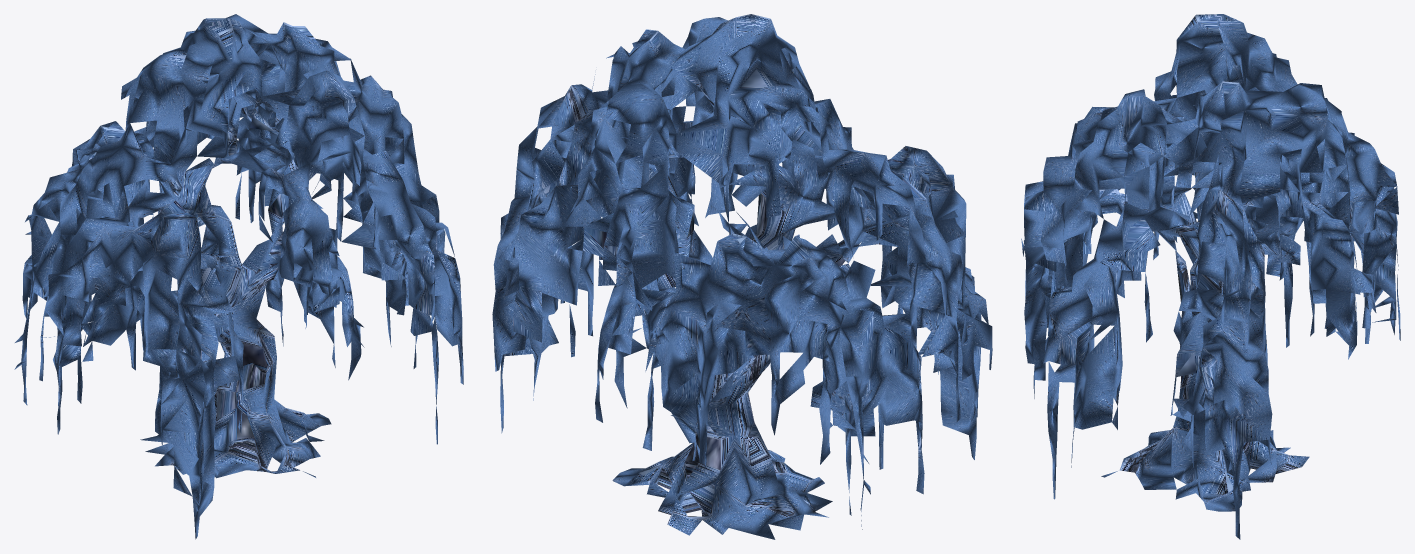
File: willow.glb
3 renders of one model, left to right at view 1: azimuth 30°, elevation 25°; view 2: azimuth 150°, elevation 25°; view 3: azimuth 270°, elevation 25°, orthographic. The views are drawn at different scales.
Size of the model in its own units: 1.84 by 1.87 by 1.46.
1 material, 1 textured.
